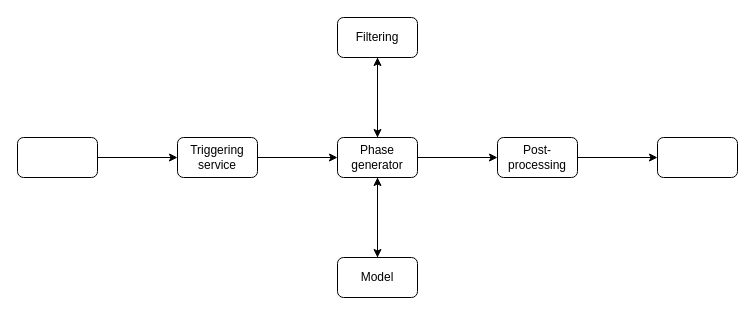
This 755x315 diagram has some shape labels left out. The shapes that lost their labels are listed below. From the top down, each one's centre as x and y in pixels, then its label:
point (57, 157): User inputs
point (697, 157): Sugesstion
